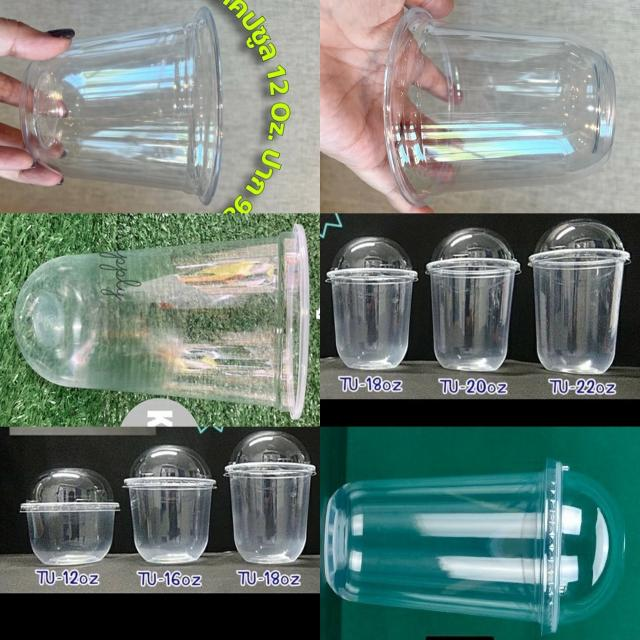Single-Use-Plastic: (15, 225, 309, 419), (324, 460, 625, 635), (384, 9, 615, 205), (20, 8, 221, 204), (528, 219, 629, 374), (427, 228, 520, 371), (327, 236, 418, 369), (225, 430, 315, 563), (124, 445, 215, 563), (20, 468, 119, 564)
